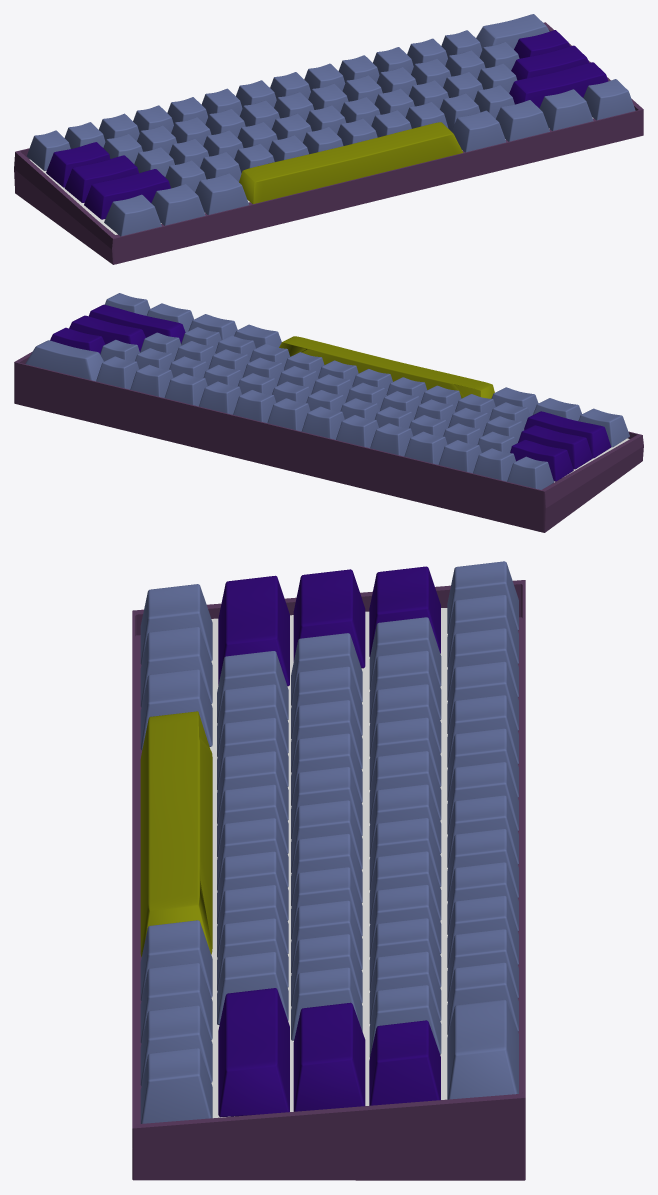
File: keyborad.fbx
3 renders of one model, top to bottom at view 1: azimuth 30°, elevation 25°; view 2: azimuth 150°, elevation 25°; view 3: azimuth 270°, elevation 25°, orthographic. The views are drawn at different scales.
Parts seen in each view (by area): view 1: Cube.001, Cube, Cube.006, Cube.007, Cube.015, Cube.008, Cube.011, Cube.005, Cube.004, Cube.012, Cube.016, Cube.013 (+8 smaller); view 2: Cube.001, Cube, Cube.006, Cube.007, Cube.008, Cube.015, Cube.002, Cube.005, Cube.011, Cube.004, Cube.010, Cube.003 (+8 smaller); view 3: Cube.001, Cube, Cube.006, Cube.007, Cube.008, Cube.015, Plane.001, Cube.011, Cube.010, Cube.002, Cube.005, Cube.009 (+9 smaller).
Part boxes in pixels (x1,y1,x2,y2): Cube.001: (14, 22, 643, 264); Cube: (27, 30, 482, 170); Cube.006: (103, 42, 519, 163); Cube.007: (134, 63, 517, 176); Cube.015: (239, 122, 463, 203); Cube.008: (165, 85, 514, 191); Cube.011: (509, 62, 608, 108); Cube.005: (84, 169, 170, 219); Cube.004: (64, 155, 138, 202); Cube.012: (104, 194, 161, 236); Cube.016: (451, 110, 506, 152); Cube.013: (151, 184, 205, 225); Cube.001: (14, 351, 643, 532); Cube: (96, 356, 553, 489); Cube.006: (100, 339, 516, 452); Cube.007: (140, 332, 524, 443); Cube.008: (181, 327, 530, 428); Cube.015: (279, 336, 494, 398); Cube.002: (25, 340, 103, 381); Cube.005: (524, 411, 611, 458); Cube.011: (89, 304, 185, 343); Cube.004: (518, 425, 592, 469); Cube.010: (69, 315, 145, 351); Cube.003: (510, 439, 573, 481); Cube.001: (132, 580, 525, 1180); Cube: (447, 561, 518, 1034); Cube.006: (369, 617, 441, 1057); Cube.007: (291, 633, 362, 1040); Cube.008: (217, 651, 288, 1024); Cube.015: (140, 711, 212, 957); Plane.001: (209, 608, 447, 1118); Cube.011: (218, 988, 289, 1117); Cube.010: (293, 1002, 365, 1111); Cube.002: (447, 999, 518, 1099); Cube.005: (218, 575, 289, 686); Cube.009: (369, 1020, 440, 1105).
Bounding box in the file's own units: 757 × 78.72 × 243.
